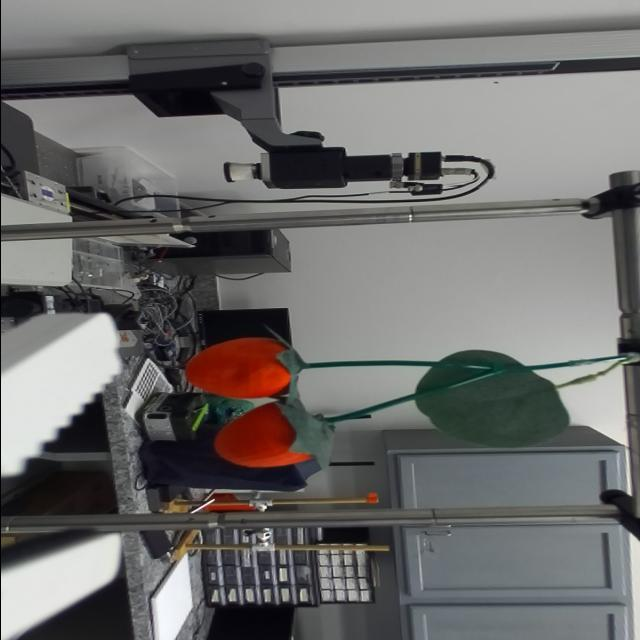Fruit-Stem-Detection: (319, 371, 496, 424), (306, 361, 483, 371), (524, 354, 624, 371)
